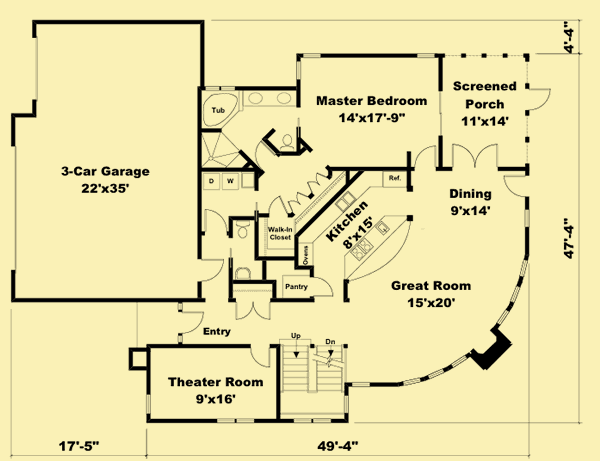door: (450, 140, 499, 172), (231, 298, 271, 324), (502, 170, 530, 199), (524, 87, 554, 113), (178, 310, 209, 334), (249, 344, 274, 370), (413, 143, 438, 168), (200, 258, 226, 282), (307, 172, 331, 198), (203, 209, 227, 234), (266, 194, 290, 219), (312, 276, 336, 301), (288, 190, 308, 213)
kitchen_bar: (342, 215, 414, 280)
large_sink: (274, 131, 296, 157), (236, 220, 251, 240)
small_sink: (243, 90, 297, 111), (233, 267, 252, 279)
stairs: (280, 329, 346, 400)
tub: (203, 91, 240, 128)
window: (211, 415, 258, 426), (522, 204, 531, 230), (144, 389, 152, 416), (350, 379, 371, 389), (416, 52, 435, 61), (299, 51, 322, 58)
